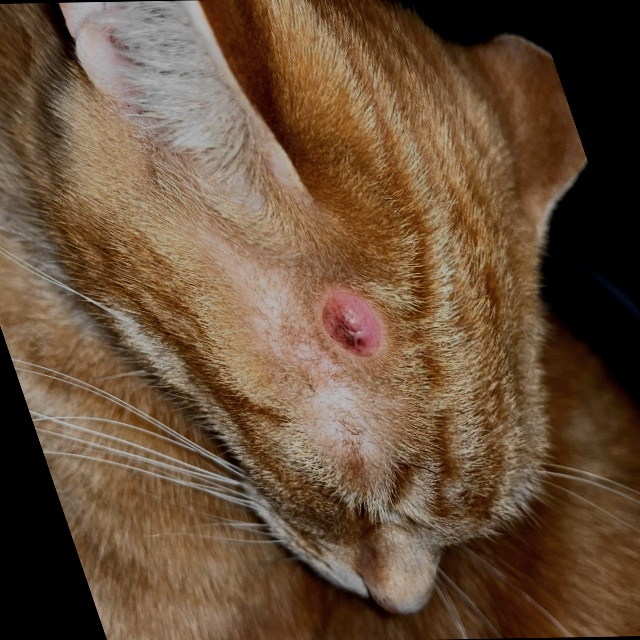lump_and_bump: (309, 285, 393, 359)
